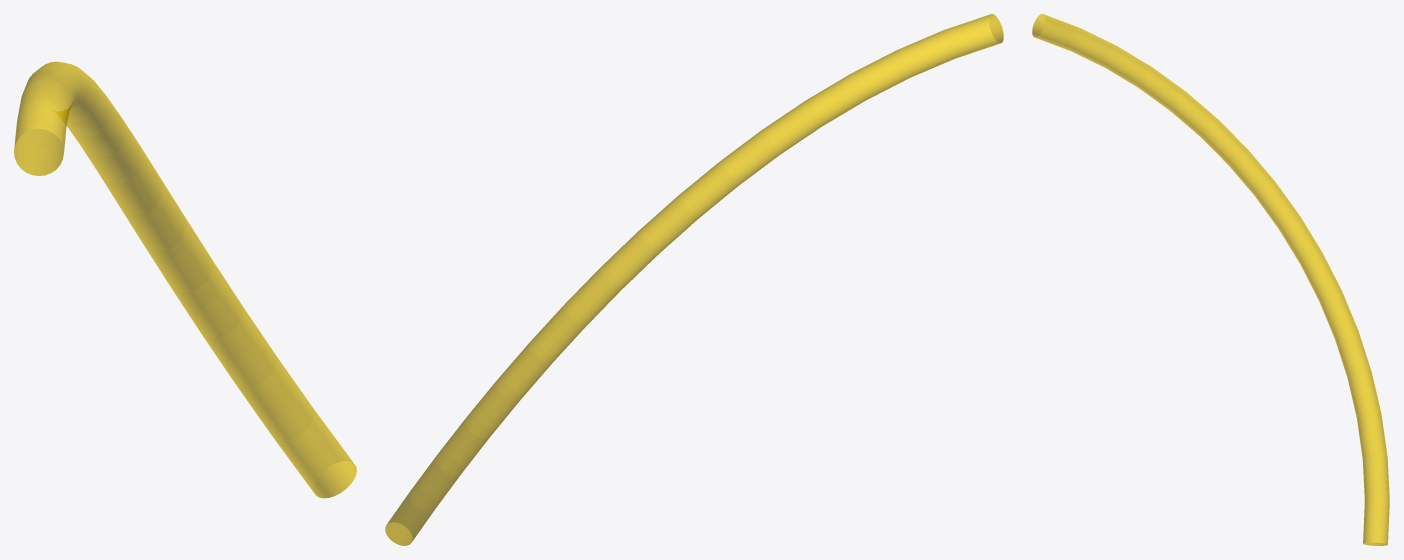
File: Event_100608114_track_102.fbx
The picture shows the model from 3 angles, left to right: view 1: azimuth 30°, elevation 25°; view 2: azimuth 150°, elevation 25°; view 3: azimuth 270°, elevation 25°; orthographic projection. The views are drawn at different scales.
Visible parts, largest first — view 1: Model; view 2: Model; view 3: Model.
Boxes of the visible parts, <box> form: Model: <box>14,61,356,498</box>; Model: <box>385,14,1003,545</box>; Model: <box>1032,14,1389,545</box>.
Bounding box in the file's own units: 0.6178 × 0.6728 × 0.5718.
